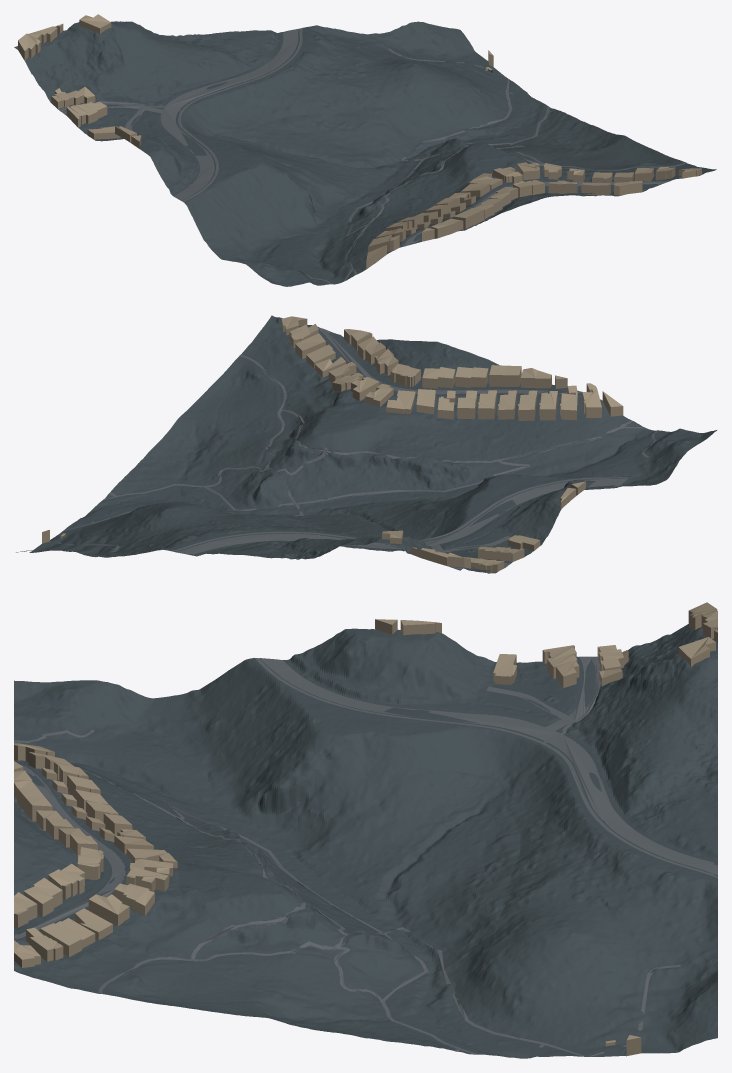
File: epsg26910-1429-10878.lod0.glb
3 renders of one model, top to bottom at view 1: azimuth 30°, elevation 25°; view 2: azimuth 150°, elevation 25°; view 3: azimuth 270°, elevation 25°, orthographic. The views are drawn at different scales.
Visible parts, largest first — view 1: epsg26910-1429-10878-lod0; view 2: epsg26910-1429-10878-lod0; view 3: epsg26910-1429-10878-lod0.
Part boxes in pixels (box(x1,y1,x2,y2)): epsg26910-1429-10878-lod0: box(14, 14, 716, 286); epsg26910-1429-10878-lod0: box(16, 315, 716, 573); epsg26910-1429-10878-lod0: box(14, 602, 717, 1058).
Size of the model in its own units: 384 by 100 by 384.
